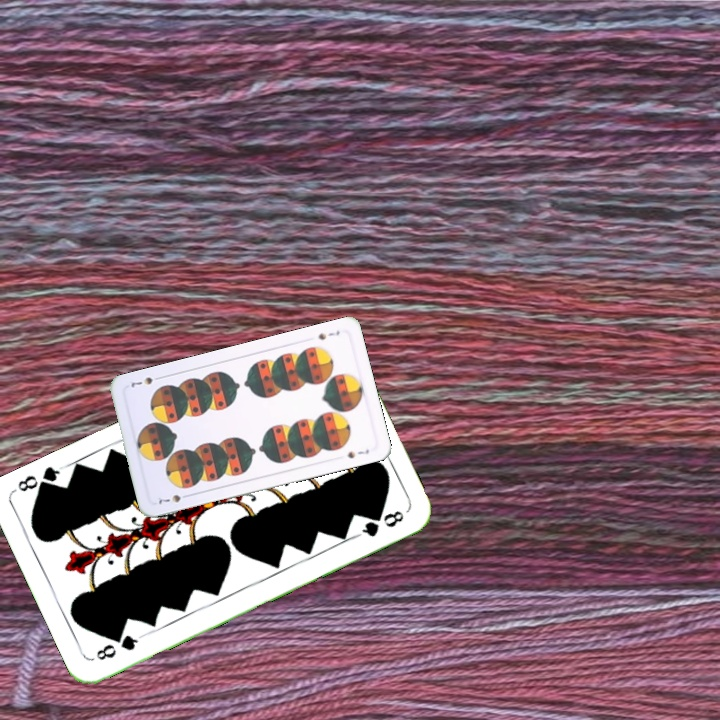G8: (92, 631, 140, 663)
S7: (154, 490, 193, 507), (314, 326, 342, 342)
